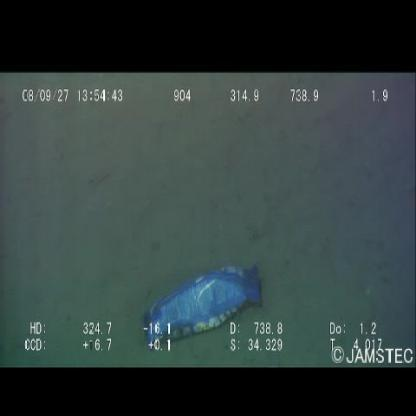Rác: (140, 258, 270, 358)
